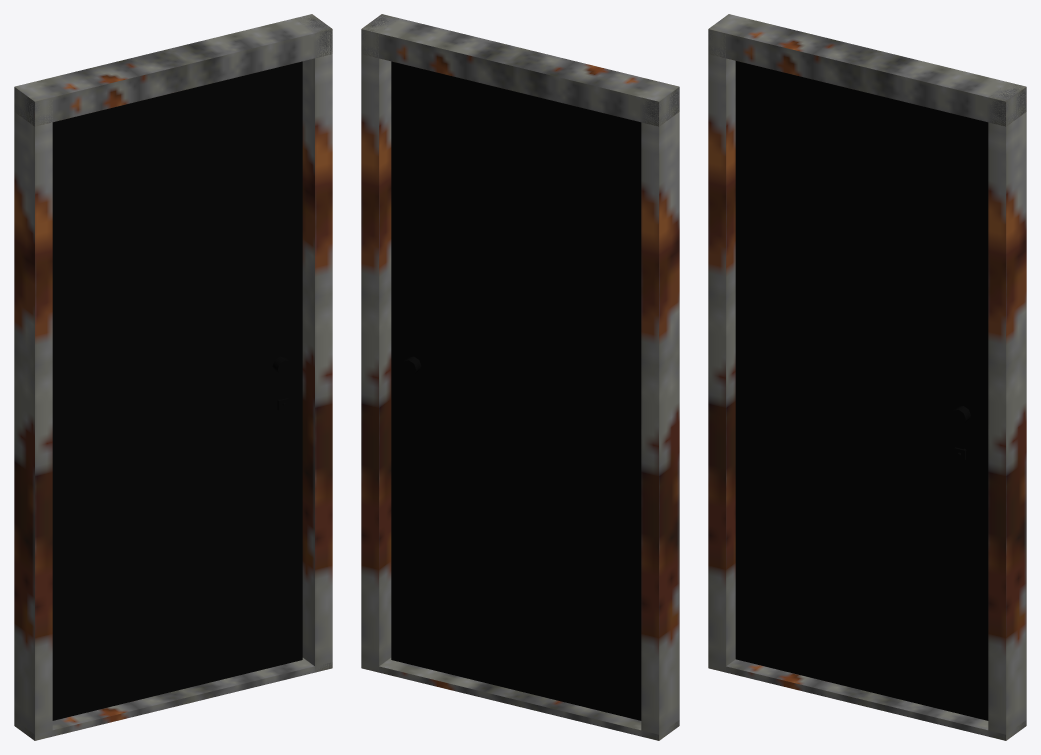
Rendered from SM_door_boathouse.fbx.
3 renders of one model, left to right at view 1: azimuth 30°, elevation 25°; view 2: azimuth 150°, elevation 25°; view 3: azimuth 330°, elevation 25°, orthographic.
Visible parts, largest first — view 1: door_boathouse_leaf, door_boathouse_jamb_l, door_boathouse_jamb_r, door_boathouse_head, door_boathouse; view 2: door_boathouse_leaf, door_boathouse_jamb_l, door_boathouse_jamb_r, door_boathouse_head, door_boathouse; view 3: door_boathouse_leaf, door_boathouse_jamb_r, door_boathouse_jamb_l, door_boathouse_head, door_boathouse.
Part boxes in pixels (x1=…): door_boathouse_leaf: x1=52, y1=61, x2=302, y2=720; door_boathouse_jamb_l: x1=14, y1=83, x2=52, y2=740; door_boathouse_jamb_r: x1=295, y1=14, x2=332, y2=671; door_boathouse_head: x1=14, y1=14, x2=332, y2=126; door_boathouse: x1=14, y1=658, x2=332, y2=740; door_boathouse_leaf: x1=391, y1=61, x2=641, y2=720; door_boathouse_jamb_l: x1=641, y1=84, x2=679, y2=740; door_boathouse_jamb_r: x1=361, y1=14, x2=398, y2=672; door_boathouse_head: x1=361, y1=14, x2=679, y2=126; door_boathouse: x1=361, y1=658, x2=679, y2=740; door_boathouse_leaf: x1=735, y1=61, x2=988, y2=720; door_boathouse_jamb_r: x1=988, y1=83, x2=1026, y2=740; door_boathouse_jamb_l: x1=708, y1=14, x2=745, y2=672; door_boathouse_head: x1=708, y1=14, x2=1026, y2=126; door_boathouse: x1=708, y1=659, x2=1026, y2=740.
Size of the model in its own units: 1 by 2.05 by 0.12.
